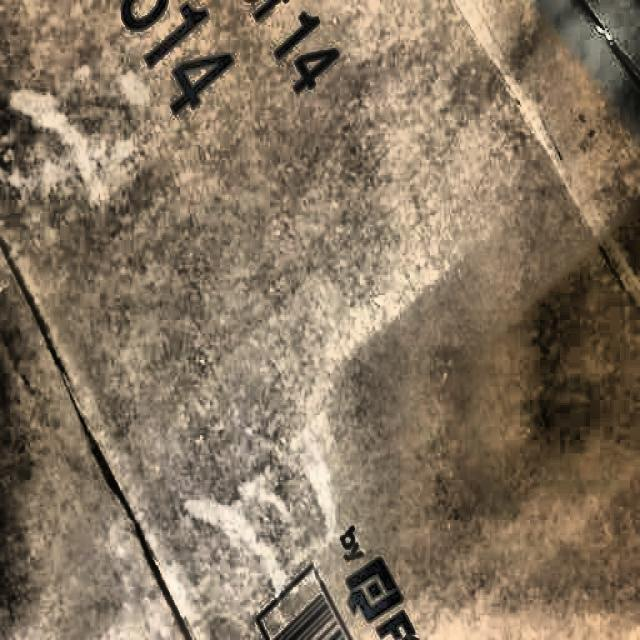cardboard: (2, 1, 640, 615)
